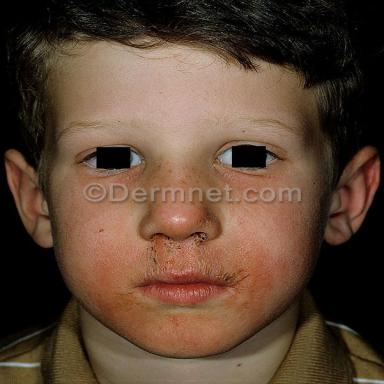eczema: (87, 236, 277, 349)
